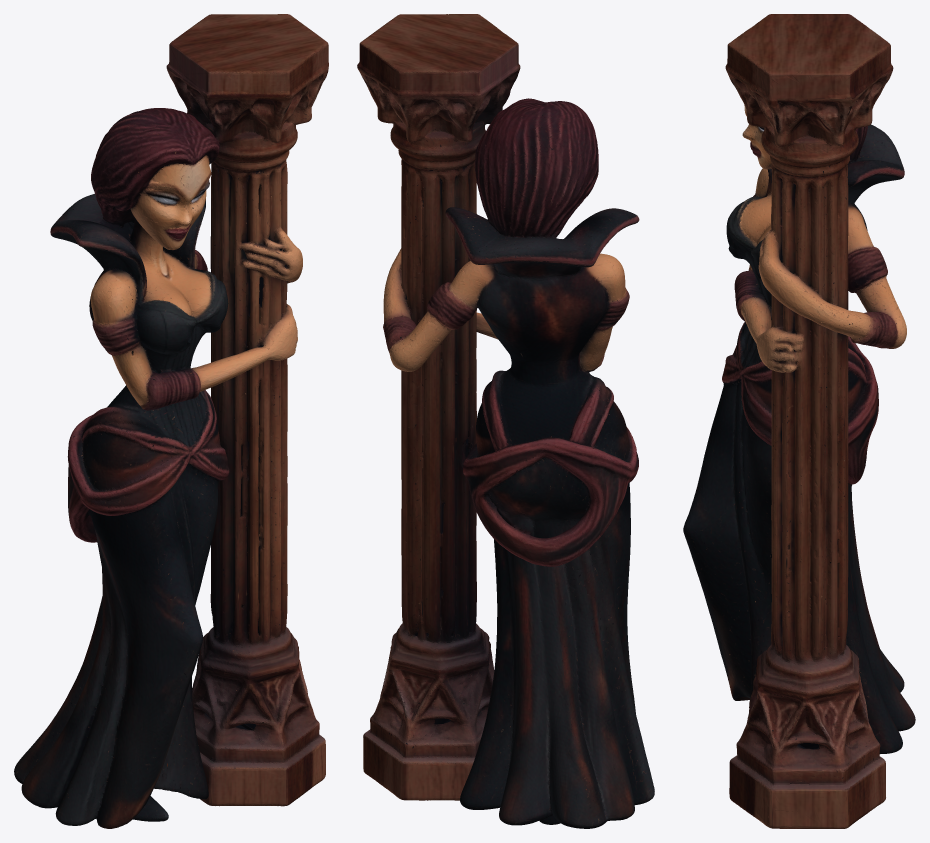
Rendered from fig_vampire_queen_wooden.glb.
3 views of the same model, side by side, from view 1: azimuth 30°, elevation 25°; view 2: azimuth 150°, elevation 25°; view 3: azimuth 270°, elevation 25° (orthographic). The views are drawn at different scales.
Visible parts, largest first — view 1: geometry_0; view 2: geometry_0; view 3: geometry_0.
Part boxes in pixels (<box>): geometry_0: <box>14,14,328,828</box>; geometry_0: <box>357,14,654,828</box>; geometry_0: <box>683,14,915,828</box>.
Size of the model in its own units: 0.3836 by 1 by 0.2778.
1 material, 1 textured.
